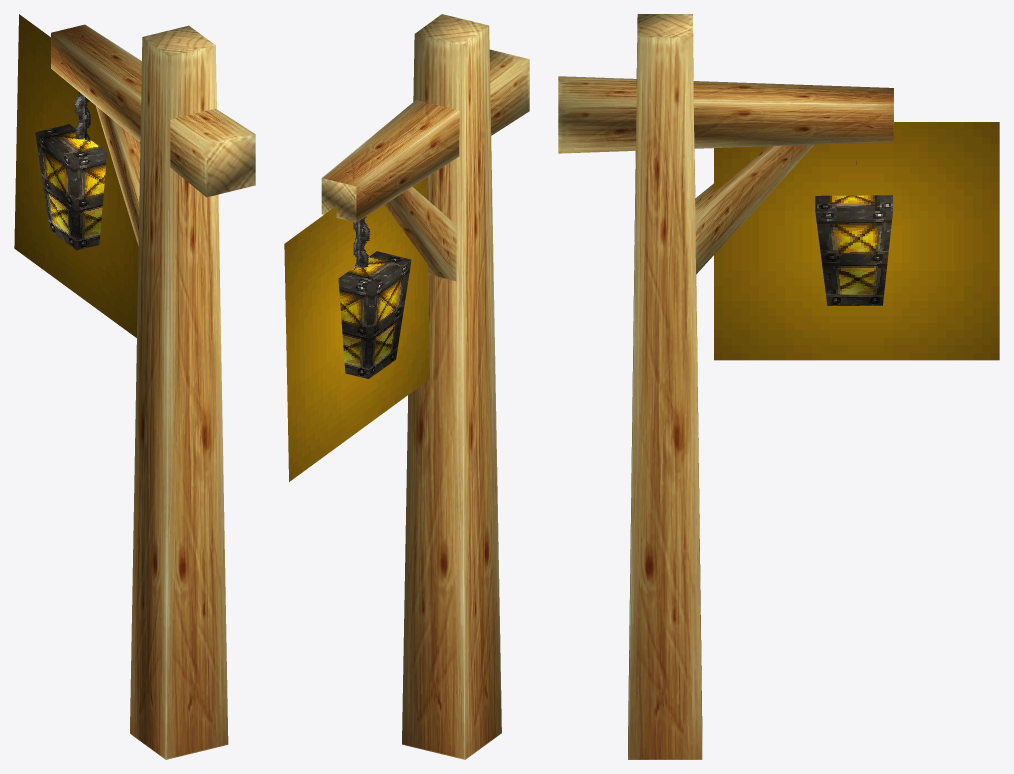
Rendered from lamppost.obj.
The picture shows the model from 3 angles, left to right: view 1: azimuth 30°, elevation 25°; view 2: azimuth 150°, elevation 25°; view 3: azimuth 270°, elevation 25°; orthographic projection. The views are drawn at different scales.
Parts seen in each view (by area): view 1: Geoset0, Geoset3, Geoset2, Geoset1; view 2: Geoset0, Geoset3, Geoset2, Geoset1; view 3: Geoset0, Geoset3, Geoset2.
Part boxes in pixels (x1,y1,x2,y2): Geoset0: (51, 24, 255, 759); Geoset3: (14, 14, 140, 337); Geoset2: (35, 124, 107, 250); Geoset1: (74, 92, 90, 142); Geoset0: (321, 14, 529, 759); Geoset3: (284, 178, 429, 481); Geoset2: (338, 251, 411, 378); Geoset1: (353, 214, 369, 270); Geoset0: (558, 14, 893, 759); Geoset3: (714, 122, 999, 360); Geoset2: (815, 195, 892, 305).
Bounding box in the file's own units: 0.402 × 4.1 × 2.28.
Materials: 4 (4 with a texture image).
